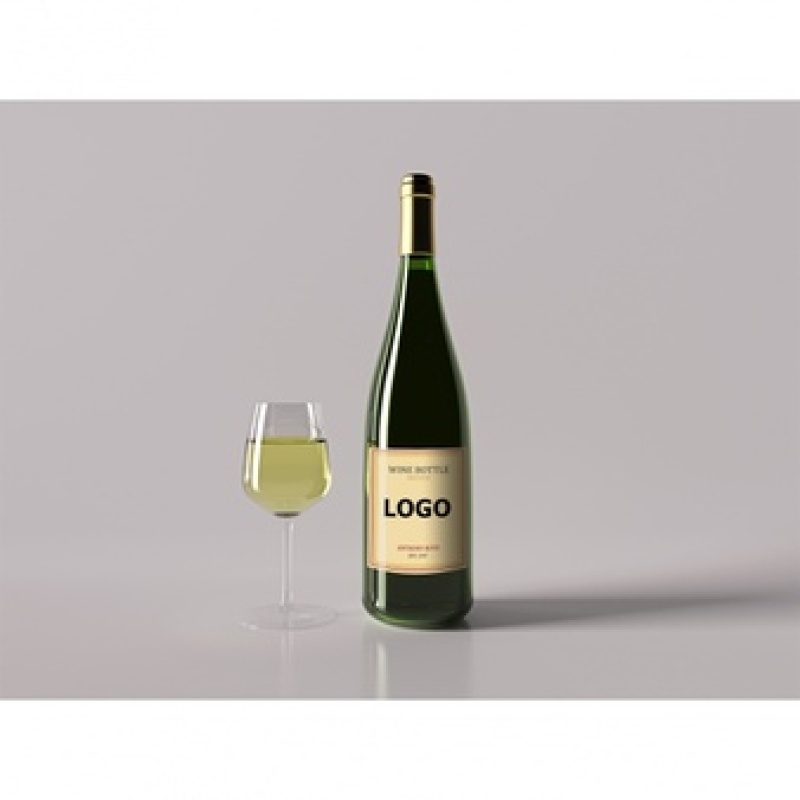wine: (370, 178, 478, 620)
